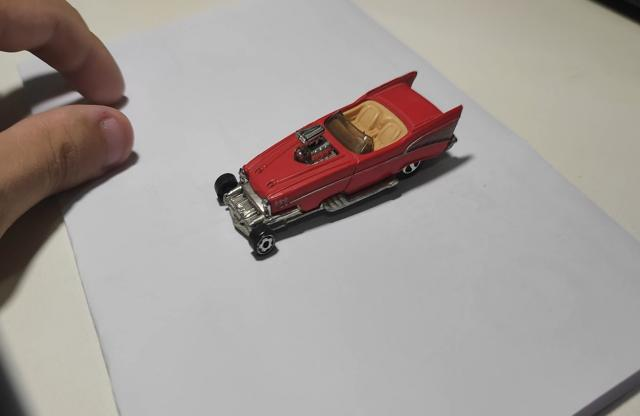03_V8: (215, 72, 463, 262)
